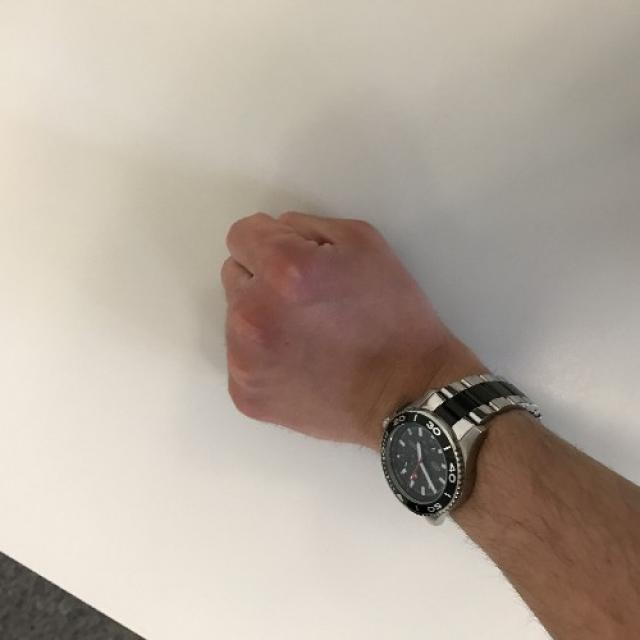fist: (221, 210, 407, 447)
